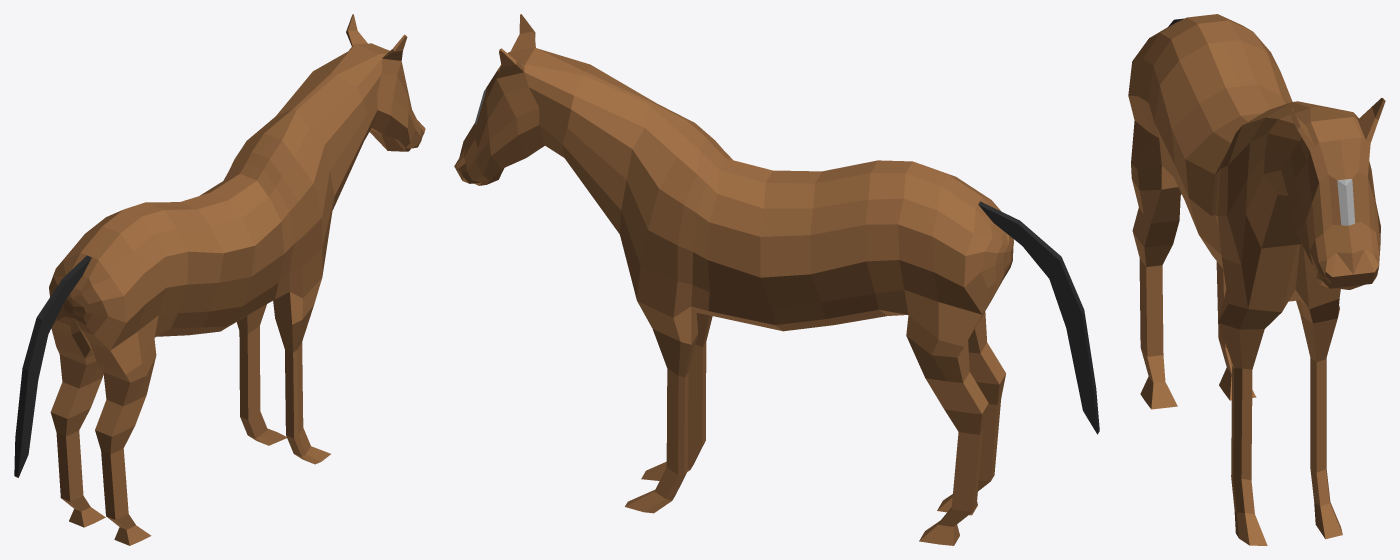
Rendered from horse.fbx.
The picture shows the model from 3 angles, left to right: view 1: azimuth 30°, elevation 25°; view 2: azimuth 150°, elevation 25°; view 3: azimuth 270°, elevation 25°; orthographic projection. The views are drawn at different scales.
Visible parts, largest first — view 1: Plane; view 2: Plane; view 3: Plane.
Part boxes in pixels (x1,y1,x2,y2): Plane: [14, 14, 425, 545]; Plane: [454, 14, 1099, 545]; Plane: [1128, 14, 1385, 545].
Size of the model in its own units: 274 by 212 by 99.33.
